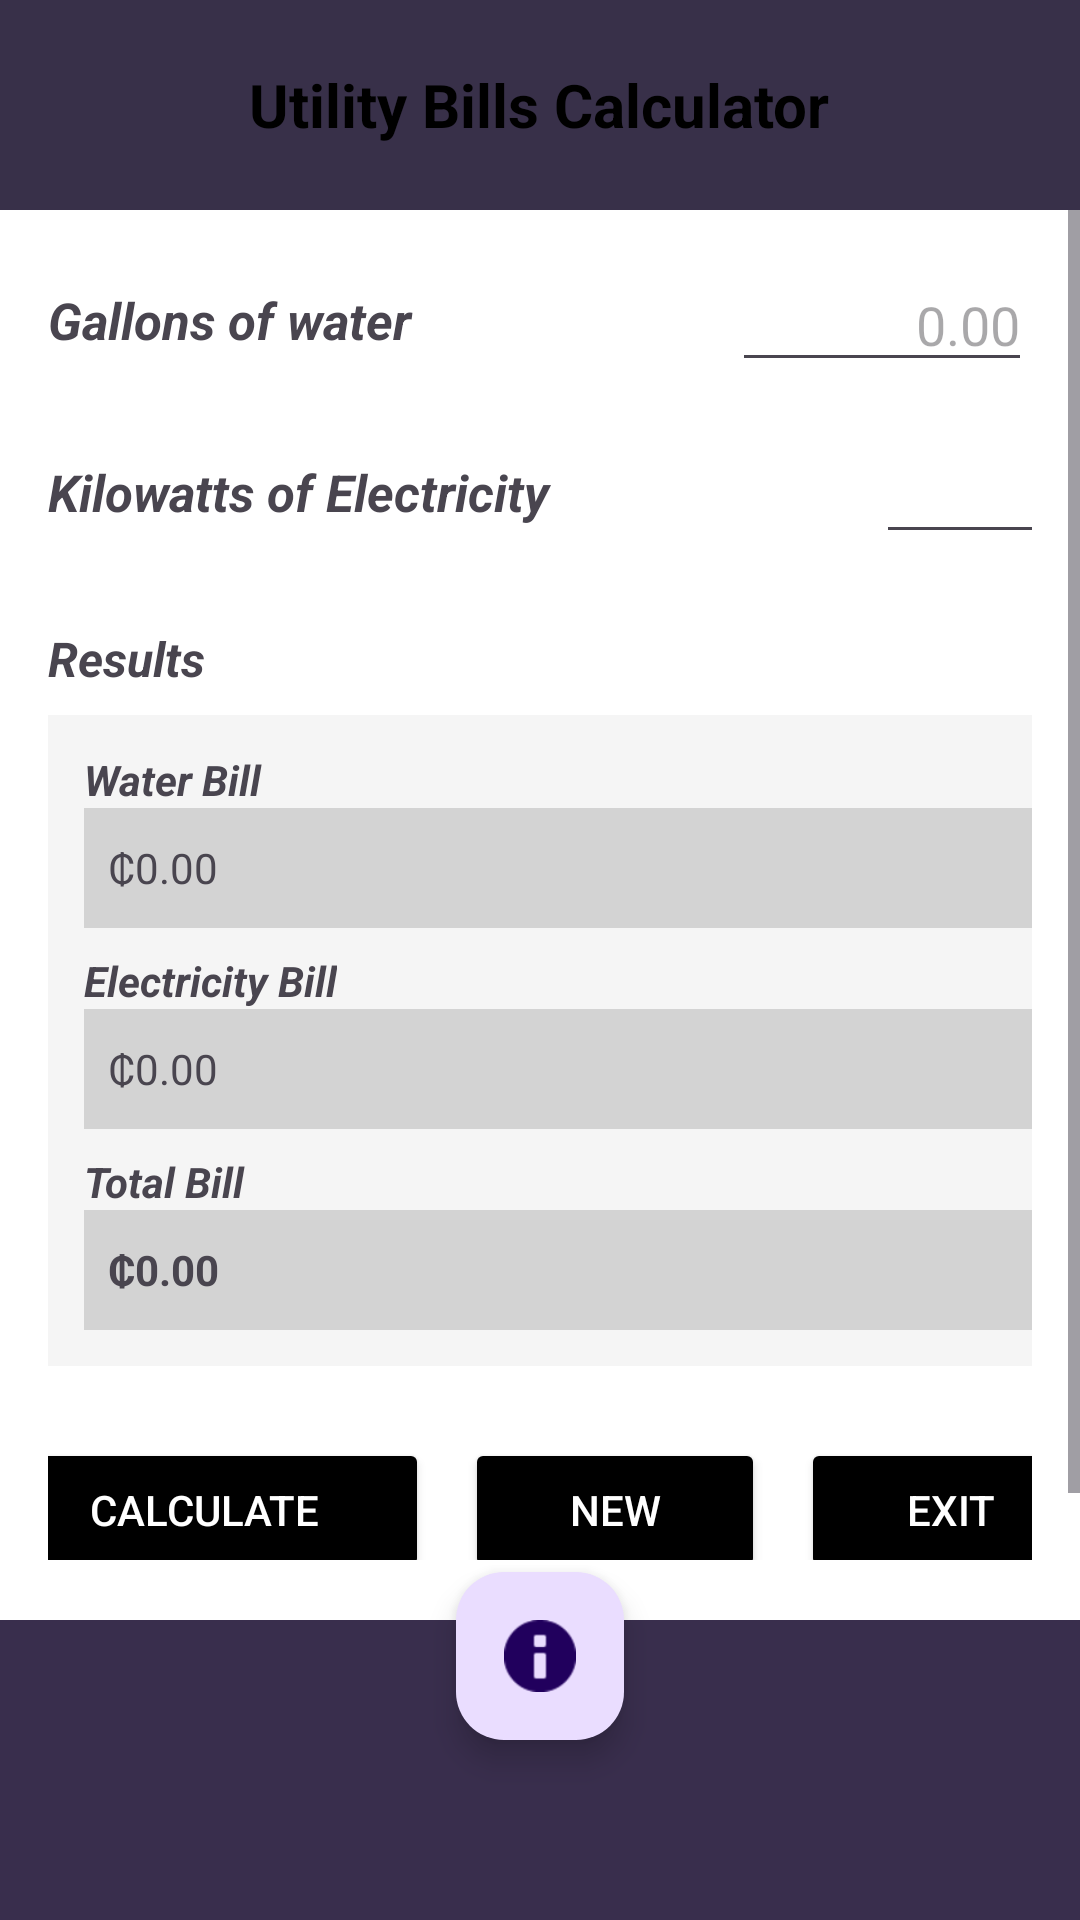

Named icons in this screenshot (1080 x 1920) and their centers, (x,y):
Programmer Info: (540,1656)
